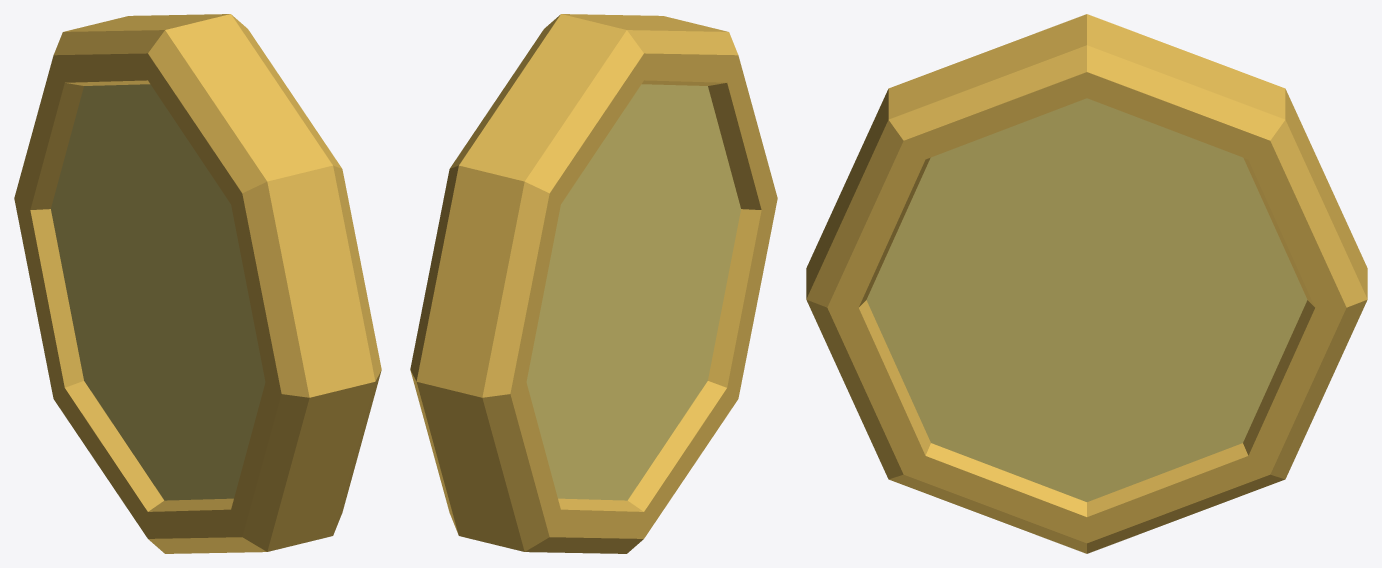
The model's file is Coin.glb.
3 views of the same model, side by side, from view 1: azimuth 30°, elevation 25°; view 2: azimuth 150°, elevation 25°; view 3: azimuth 270°, elevation 25° (orthographic). The views are drawn at different scales.
Parts seen in each view (by area): view 1: Coin_Cylinder; view 2: Coin_Cylinder; view 3: Coin_Cylinder.
Part boxes in pixels (x1,y1,x2,y2): Coin_Cylinder: [14, 14, 381, 553]; Coin_Cylinder: [410, 14, 777, 553]; Coin_Cylinder: [806, 14, 1367, 553].
Bounding box in the file's own units: 0.08 × 0.4 × 0.4.
